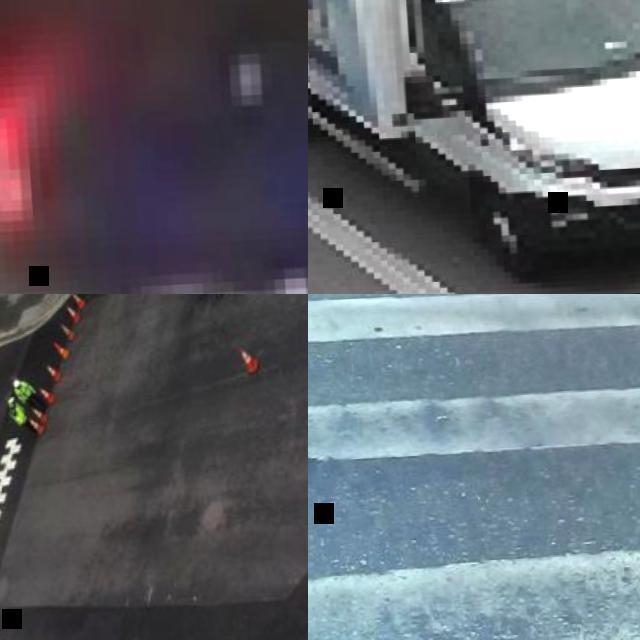car: (318, 0, 637, 271)
